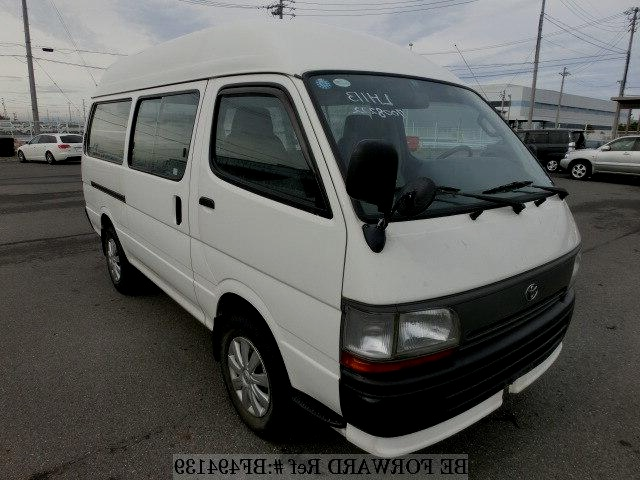van: (78, 61, 582, 446)
